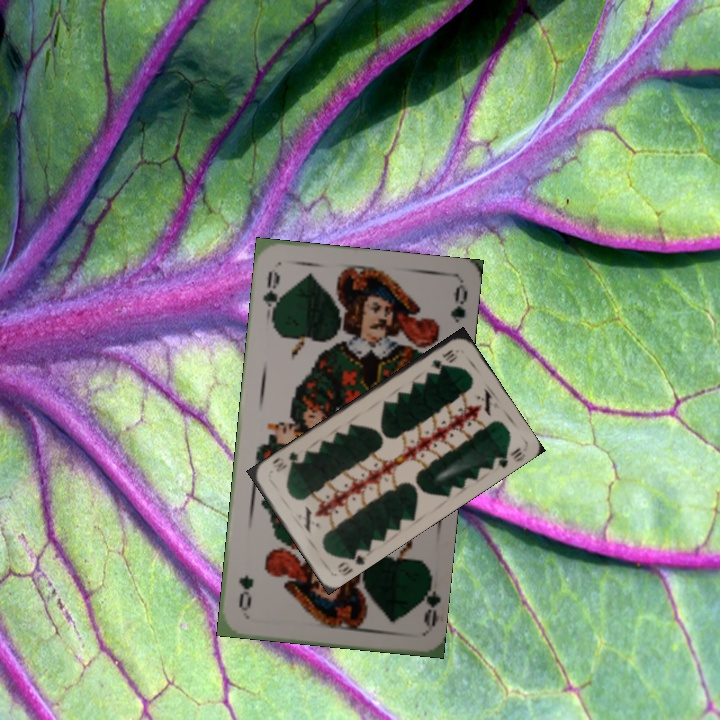G10: (333, 545, 367, 579), (426, 345, 459, 371)
GO: (413, 571, 441, 631), (259, 267, 285, 323)
